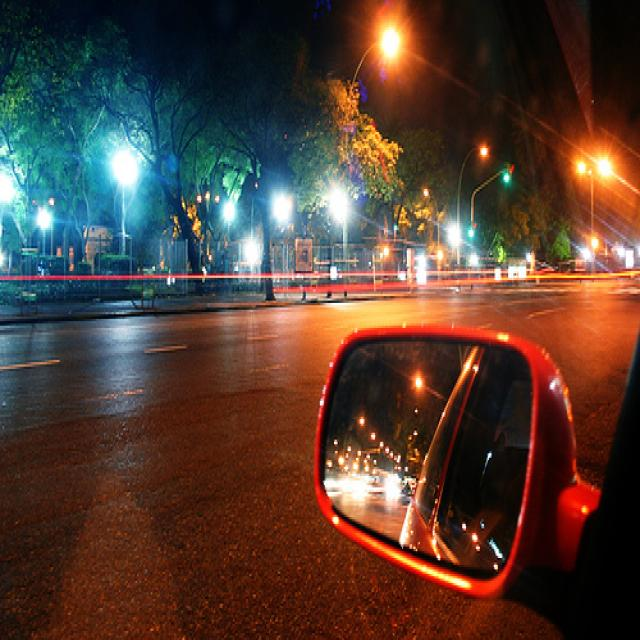Vehicle: (315, 316, 640, 640), (492, 258, 530, 282)
